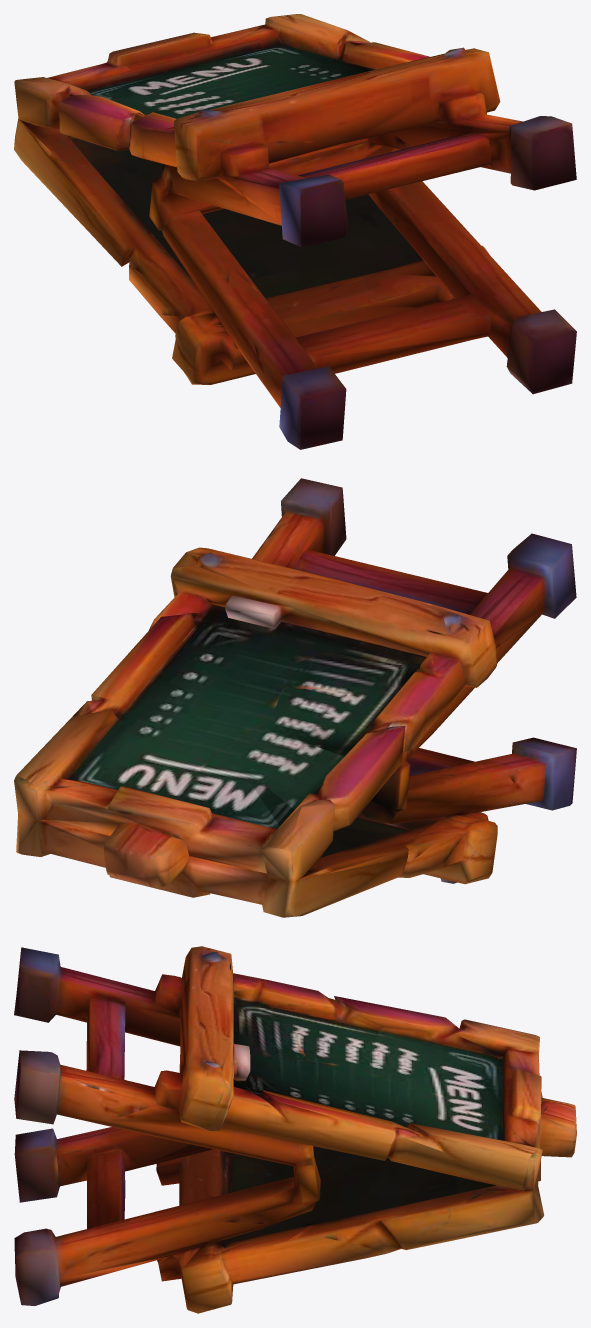
3 views of the same model, one above another, from view 1: azimuth 30°, elevation 25°; view 2: azimuth 150°, elevation 25°; view 3: azimuth 270°, elevation 25° (orthographic). The views are drawn at different scales.
Visible parts, largest first — view 1: material; view 2: material; view 3: material.
Part boxes in pixels (x1,y1,x2,y2): material: [14, 14, 576, 449]; material: [14, 478, 576, 917]; material: [14, 946, 576, 1313].
Bounding box in the file's own units: 0.5695 × 0.48 × 1.
Materials: 1 (1 with a texture image).
